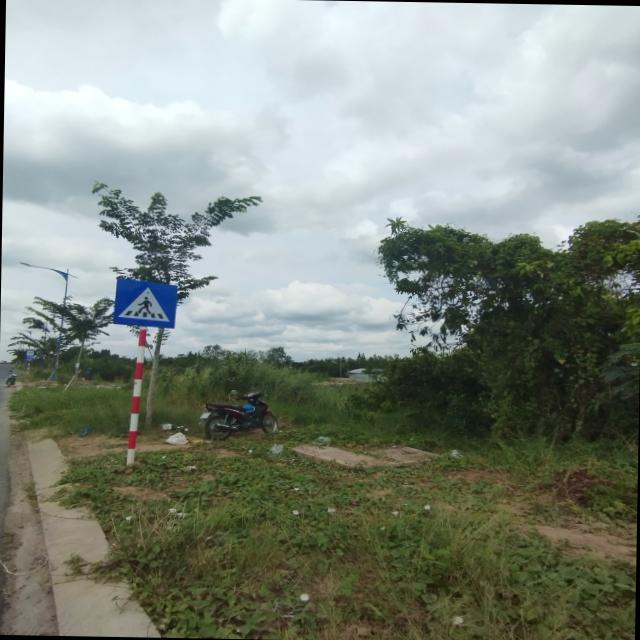Giao_Nhau_Duong_Uu_Tien: (114, 277, 178, 329)
